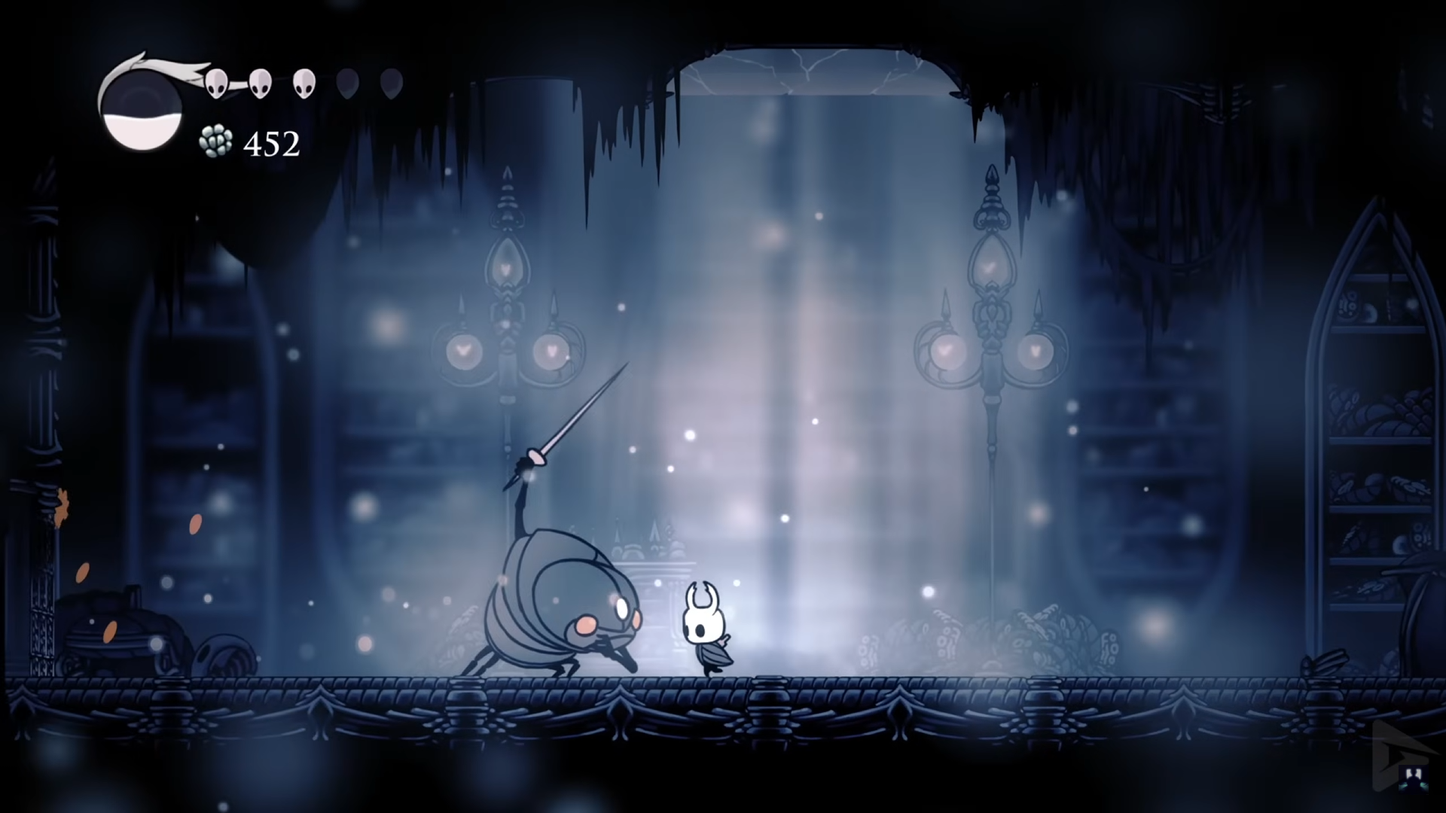HK: (679, 578, 738, 681)
